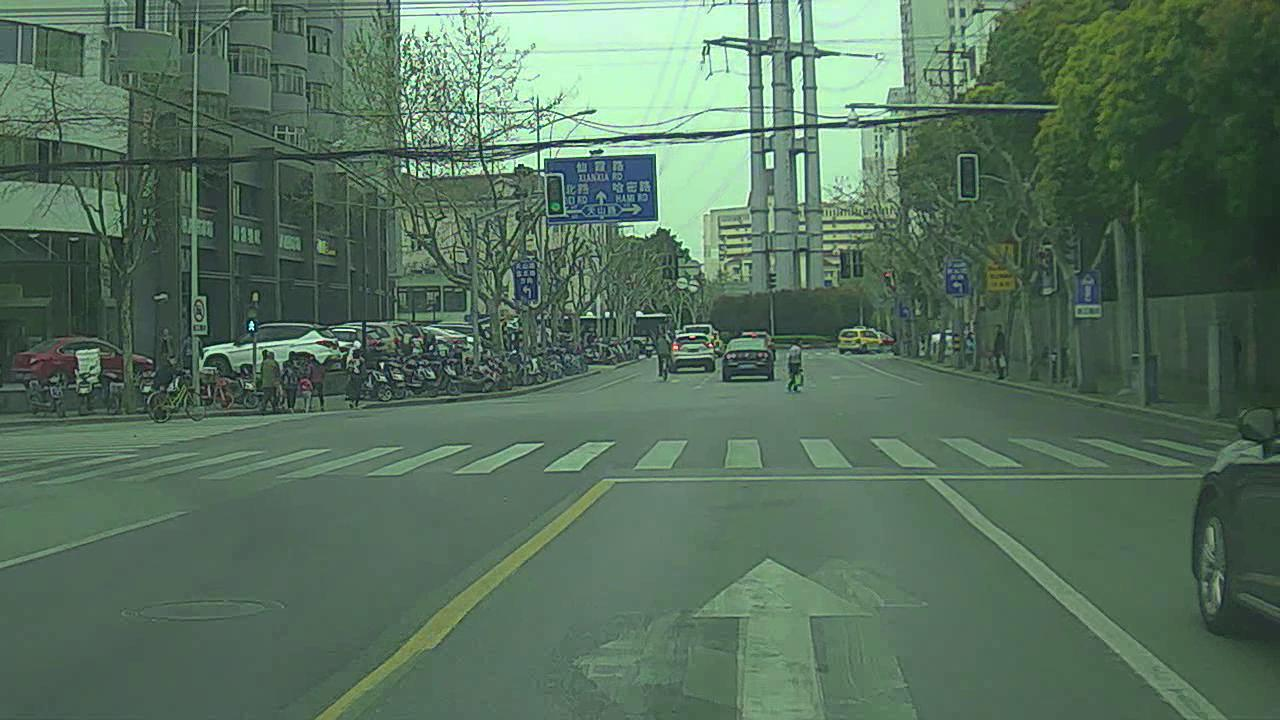traffic_light: (545, 170, 566, 218), (960, 155, 978, 200)
